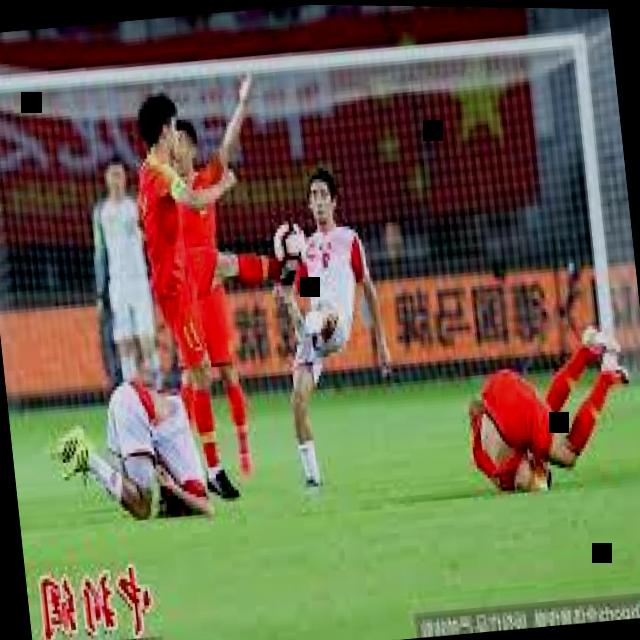Fall-Detected: (41, 352, 236, 533)
